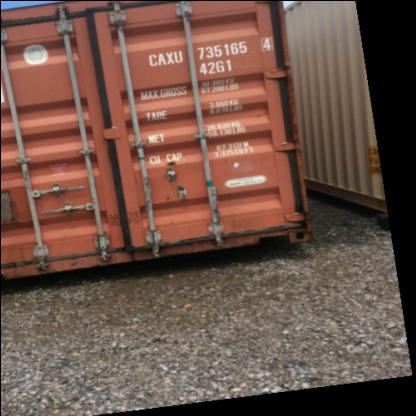Damage: (132, 212, 306, 256), (6, 234, 117, 274), (104, 199, 139, 229)
